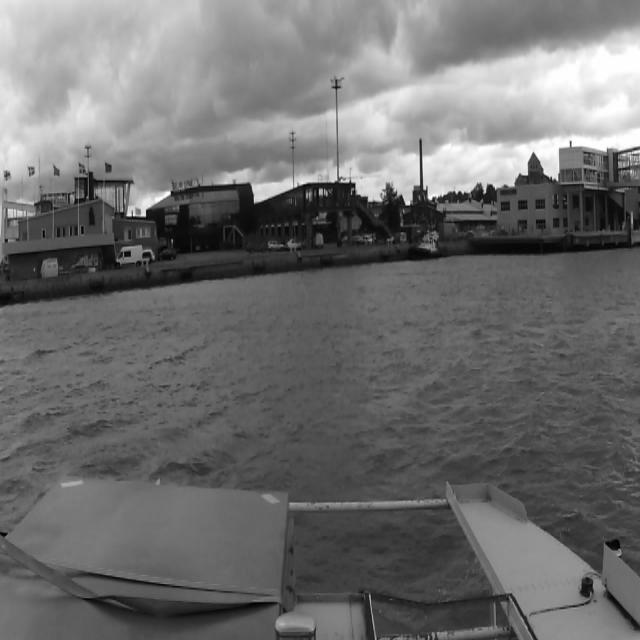ship: (409, 227, 440, 260)
